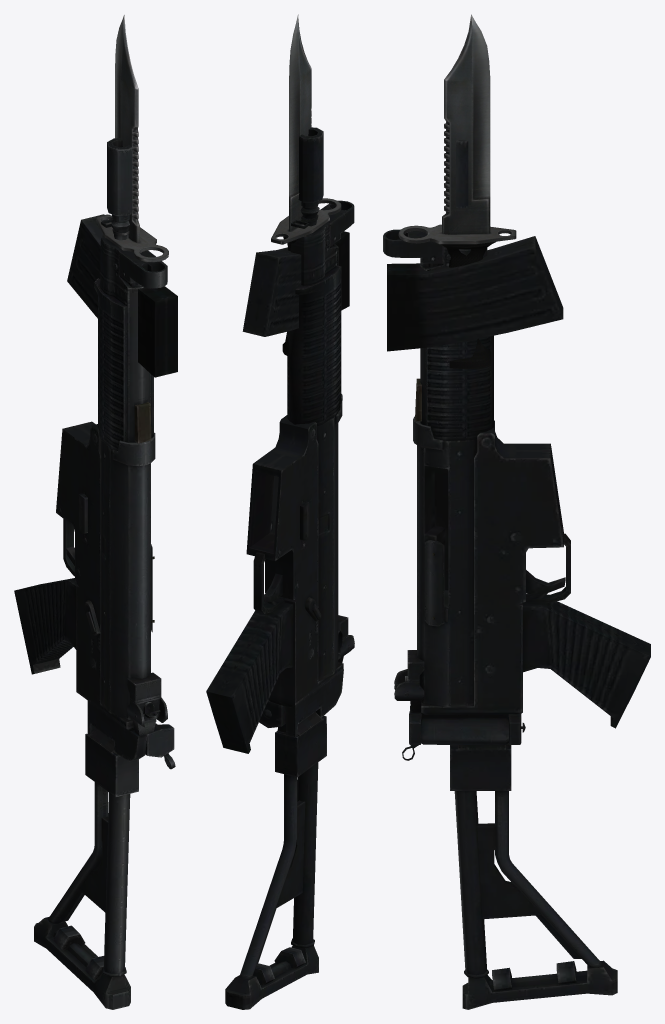
Rendered from Pindad_SS1_R5.obj.
3 views of the same model, side by side, from view 1: azimuth 30°, elevation 25°; view 2: azimuth 150°, elevation 25°; view 3: azimuth 270°, elevation 25° (orthographic). The views are drawn at different scales.
Visible parts, largest first — view 1: SS1_V5_Carbine_LOD0, SS1_V5_Carbine_LOD0_Magazine, M_7; view 2: SS1_V5_Carbine_LOD0, SS1_V5_Carbine_LOD0_Magazine, M_7; view 3: SS1_V5_Carbine_LOD0, SS1_V5_Carbine_LOD0_Magazine, M_7.
Part boxes in pixels (x1=…): SS1_V5_Carbine_LOD0: x1=14, y1=138, x2=175, y2=1009; SS1_V5_Carbine_LOD0_Magazine: x1=67, y1=214, x2=177, y2=377; M_7: x1=96, y1=15, x2=168, y2=262; SS1_V5_Carbine_LOD0: x1=206, y1=127, x2=354, y2=1009; SS1_V5_Carbine_LOD0_Magazine: x1=242, y1=231, x2=349, y2=336; M_7: x1=271, y1=14, x2=341, y2=356; SS1_V5_Carbine_LOD0: x1=383, y1=140, x2=650, y2=1009; SS1_V5_Carbine_LOD0_Magazine: x1=387, y1=236, x2=563, y2=351; M_7: x1=398, y1=14, x2=516, y2=369.
Bounding box in the file's own units: 0.0408 × 0.8208 × 0.2004.
2 materials, 2 textured.
